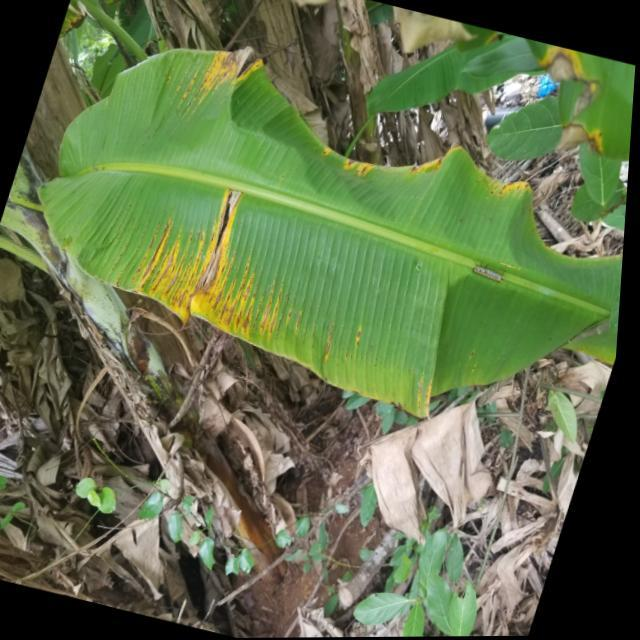Early_rust: (110, 178, 380, 418), (286, 118, 541, 224), (525, 38, 622, 186), (160, 38, 276, 125)
